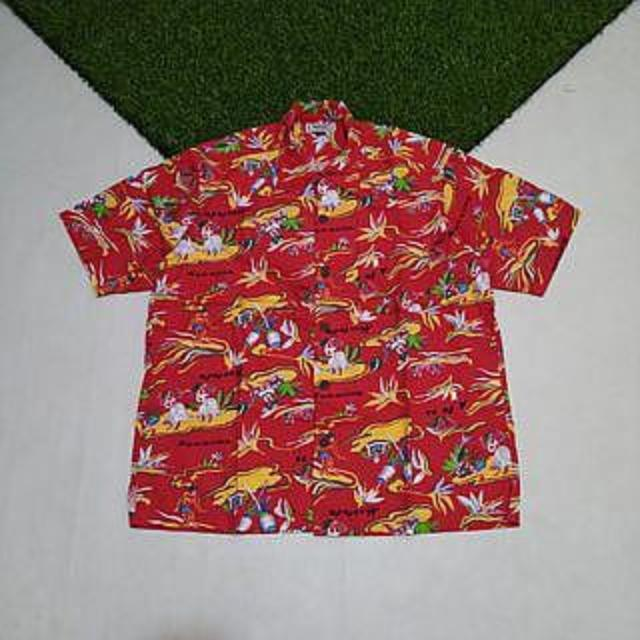SHIRT: (43, 92, 596, 541)
